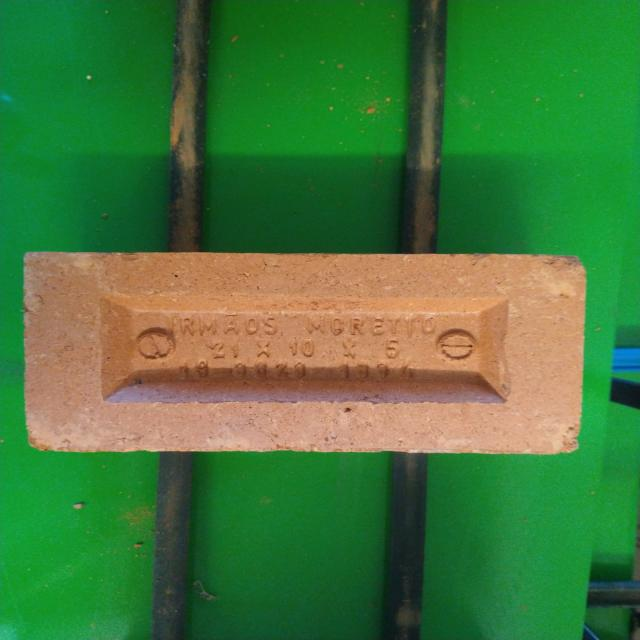bricks: (27, 252, 577, 453), (150, 245, 156, 246)
